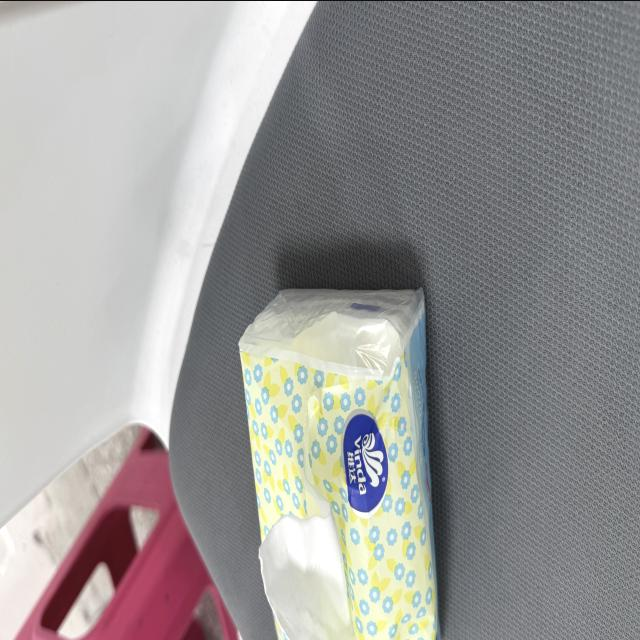tissue: (240, 290, 438, 639), (260, 514, 353, 639)
